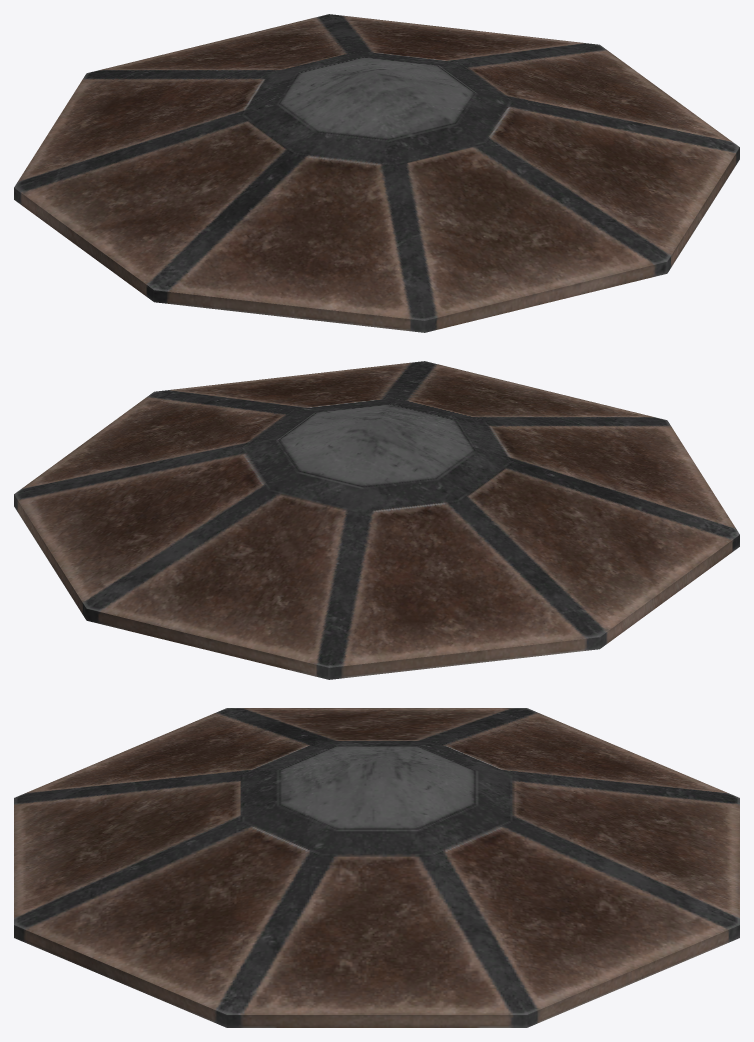
Rendered from sm_dwarf_erebor_shield_leather_a.fbx.
3 renders of one model, top to bottom at view 1: azimuth 30°, elevation 25°; view 2: azimuth 150°, elevation 25°; view 3: azimuth 270°, elevation 25°, orthographic. The views are drawn at different scales.
Visible parts, largest first — view 1: sm_dwarf_erebor_shield_leather_a; view 2: sm_dwarf_erebor_shield_leather_a; view 3: sm_dwarf_erebor_shield_leather_a.
Part boxes in pixels (x1,y1,x2,y2): sm_dwarf_erebor_shield_leather_a: (14, 14, 739, 332); sm_dwarf_erebor_shield_leather_a: (14, 361, 739, 679); sm_dwarf_erebor_shield_leather_a: (14, 708, 739, 1027).
Bounding box in the file's own units: 0.6115 × 0.6115 × 0.1447.
1 material, 1 textured.
